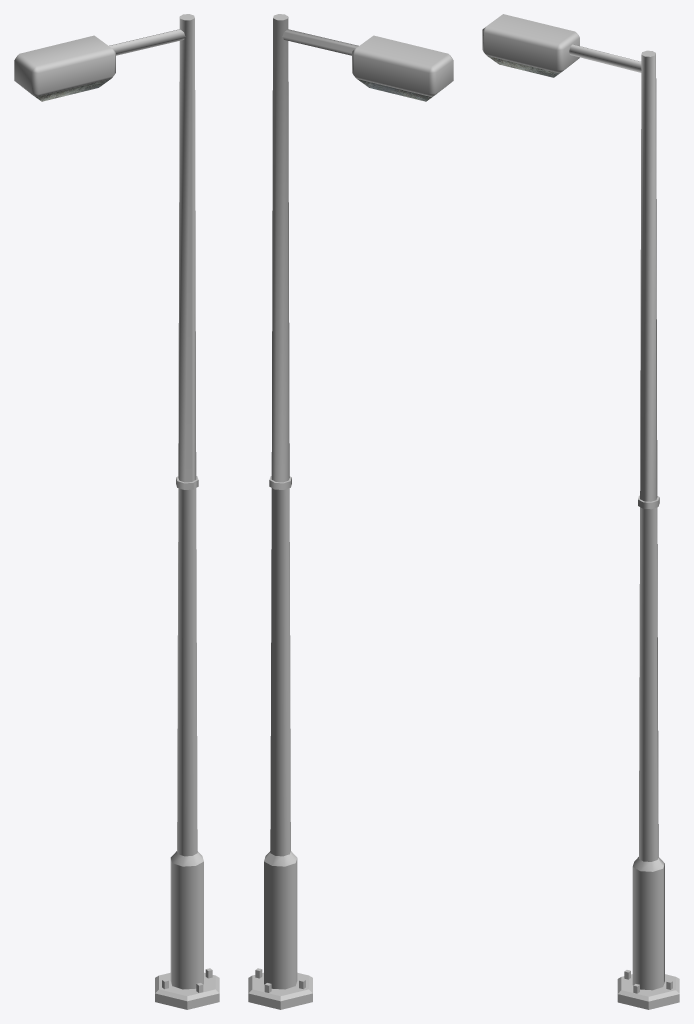
Rendered from street_lamp02.fbx.
3 views of the same model, side by side, from view 1: azimuth 30°, elevation 25°; view 2: azimuth 150°, elevation 25°; view 3: azimuth 330°, elevation 25° (orthographic). The views are drawn at different scales.
Visible parts, largest first — view 1: street_lamp02; view 2: street_lamp02; view 3: street_lamp02.
Boxes of the visible parts, bbox=[...] form: street_lamp02: bbox=[14, 14, 219, 1009]; street_lamp02: bbox=[248, 14, 453, 1009]; street_lamp02: bbox=[482, 14, 679, 1009].
Bounding box in the file's own units: 1.3 × 6.18 × 0.3687.
